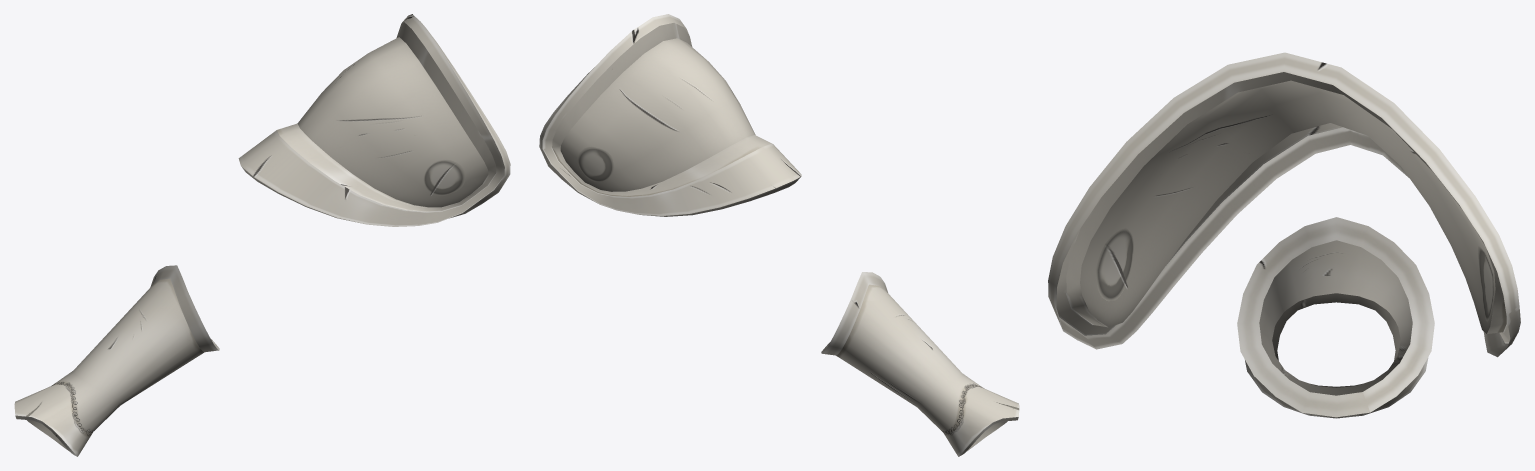
Rendered from amorarm_R.glb.
The picture shows the model from 3 angles, left to right: view 1: azimuth 30°, elevation 25°; view 2: azimuth 150°, elevation 25°; view 3: azimuth 270°, elevation 25°; orthographic projection. The views are drawn at different scales.
Visible parts, largest first — view 1: amorarm_R; view 2: amorarm_R; view 3: amorarm_R.
Part boxes in pixels (left/top/right/bottom): amorarm_R: left=14, top=14, right=510, bottom=456; amorarm_R: left=539, top=14, right=1019, bottom=456; amorarm_R: left=1048, top=52, right=1520, bottom=418.
Size of the model in its own units: 0.4705 by 0.3531 by 0.2203.
1 material, 1 textured.
